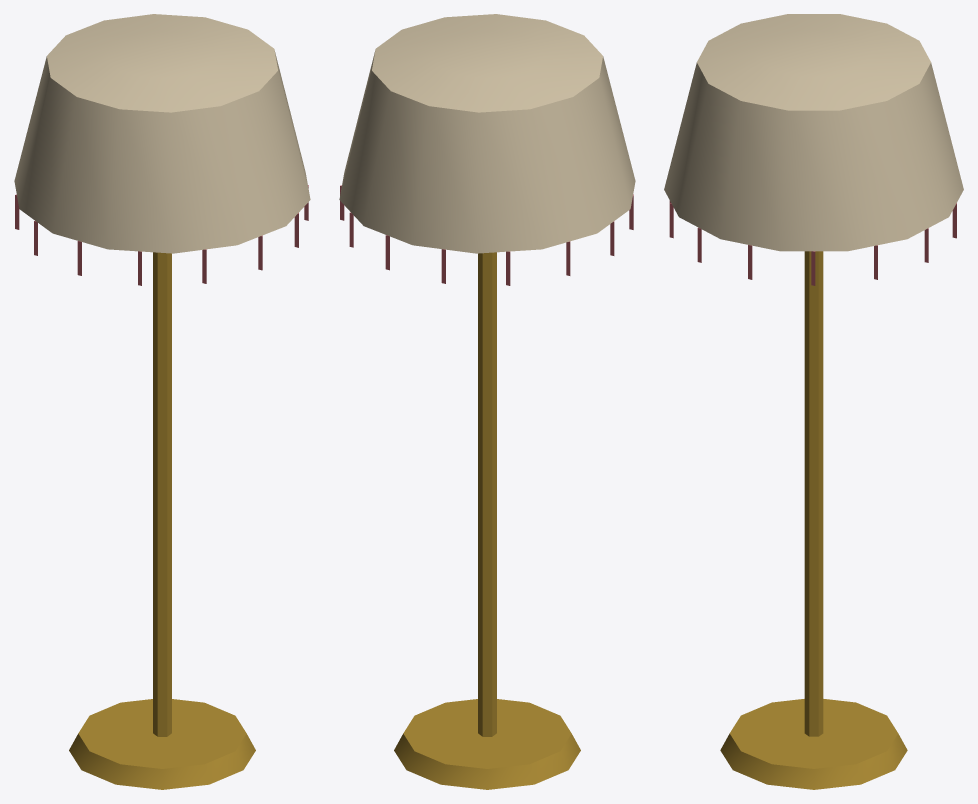
The model's file is floor_lamp.glb.
3 views of the same model, side by side, from view 1: azimuth 30°, elevation 25°; view 2: azimuth 150°, elevation 25°; view 3: azimuth 270°, elevation 25° (orthographic).
Visible parts, largest first — view 1: furniture-floor_lamp; view 2: furniture-floor_lamp; view 3: furniture-floor_lamp.
Part boxes in pixels (<box>): furniture-floor_lamp: <box>14,14,310,789</box>; furniture-floor_lamp: <box>339,14,635,789</box>; furniture-floor_lamp: <box>664,14,963,789</box>.
Size of the model in its own units: 0.6305 by 1.64 by 0.6399.
